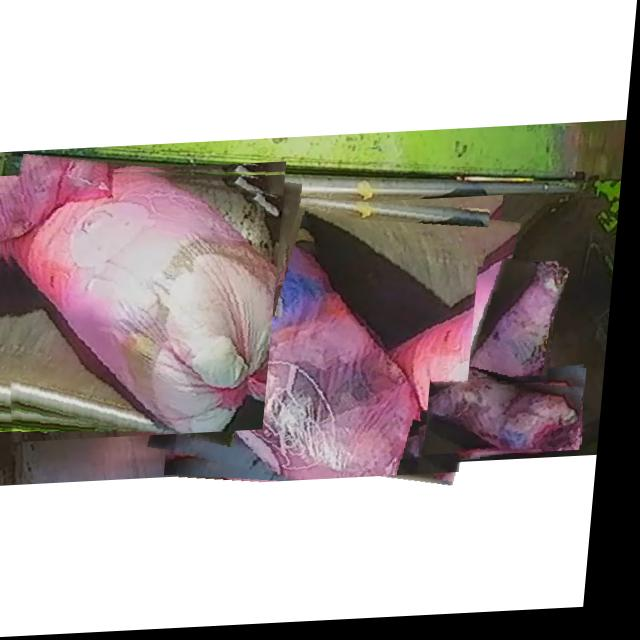other_trashbag: (190, 197, 474, 484), (11, 174, 281, 435), (436, 387, 589, 456), (476, 275, 567, 390), (426, 213, 432, 222)
